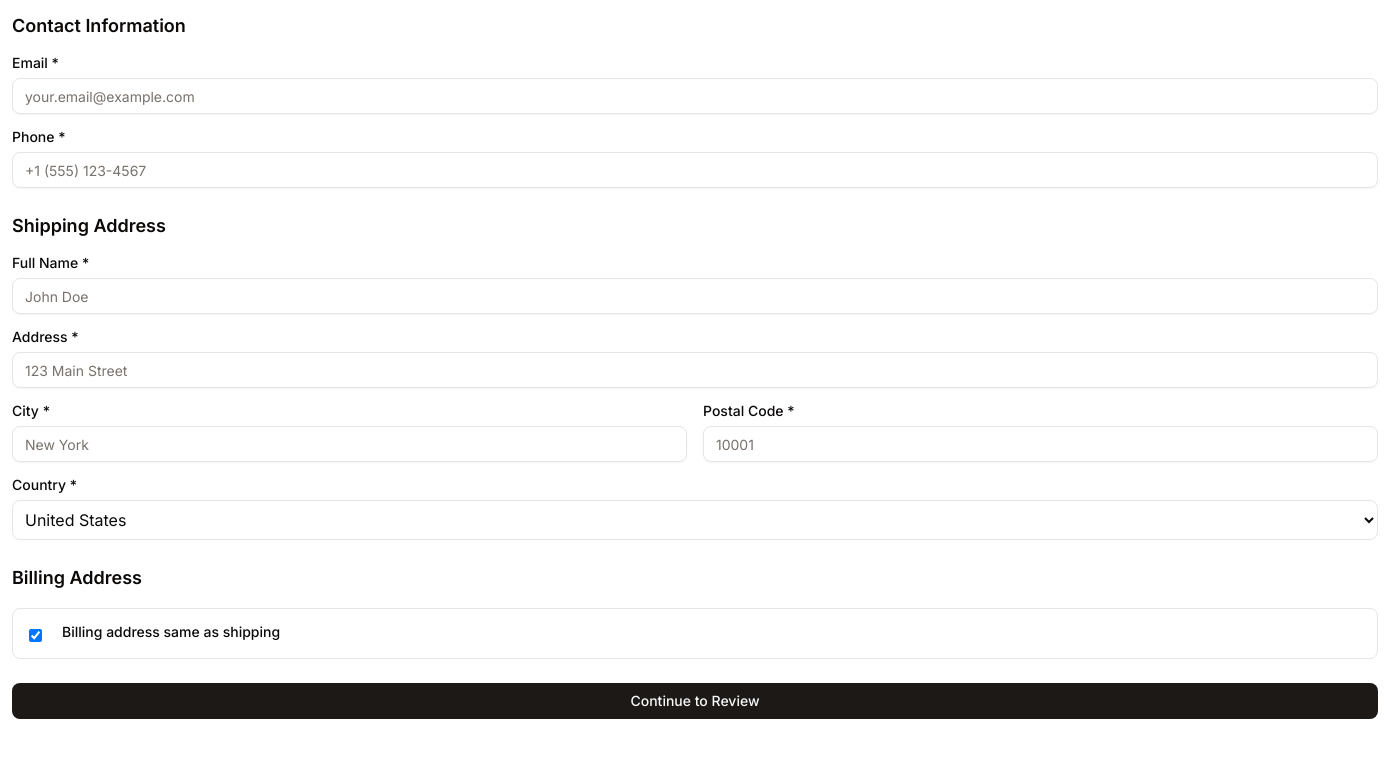
CheckoutShippingForm › displays validation errors when form is submitted with invalid data
The width and height of the screenshot is (1390, 764).
Submit empty form
Click the button "Continue to Review". click: [695, 701]
box: [12,683,1378,719]
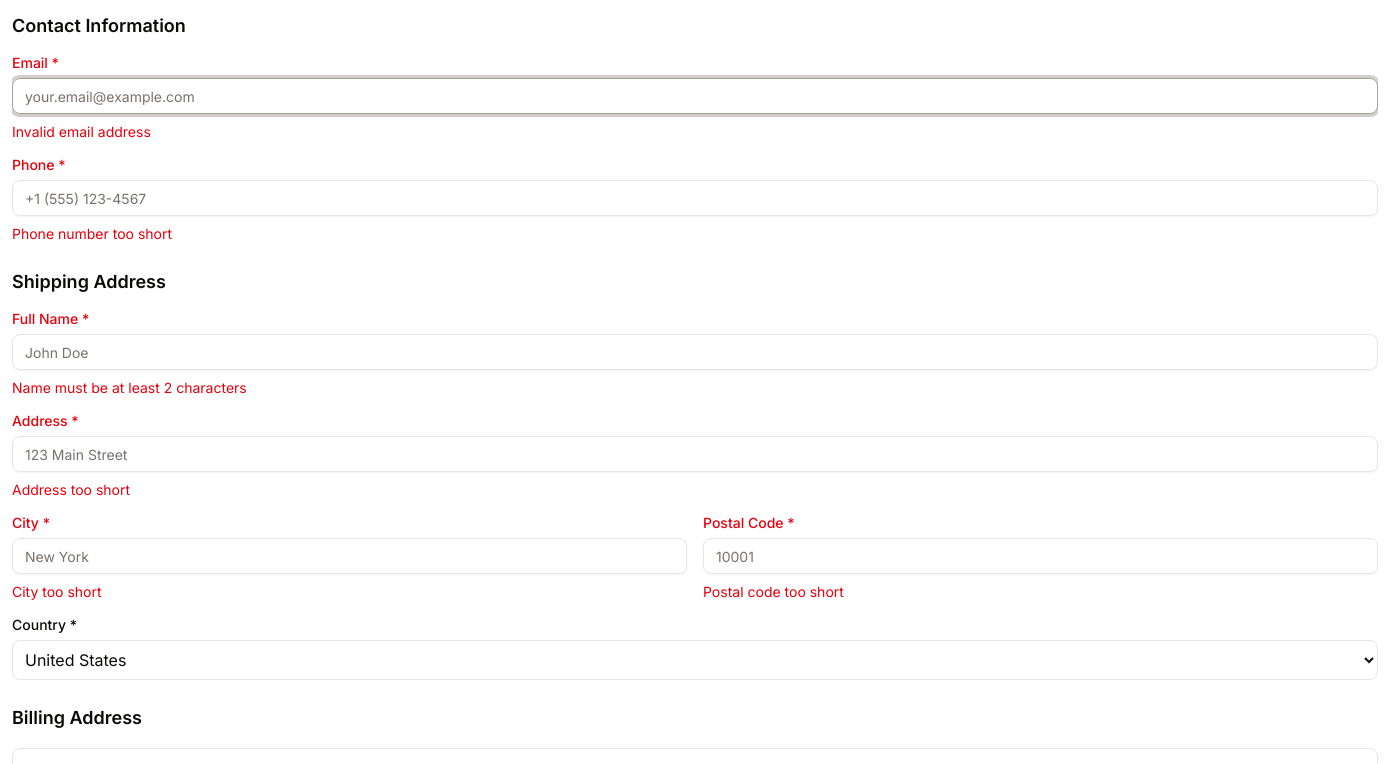
Check: the text "Invalid email address" is shown, box [12,123,151,140]
